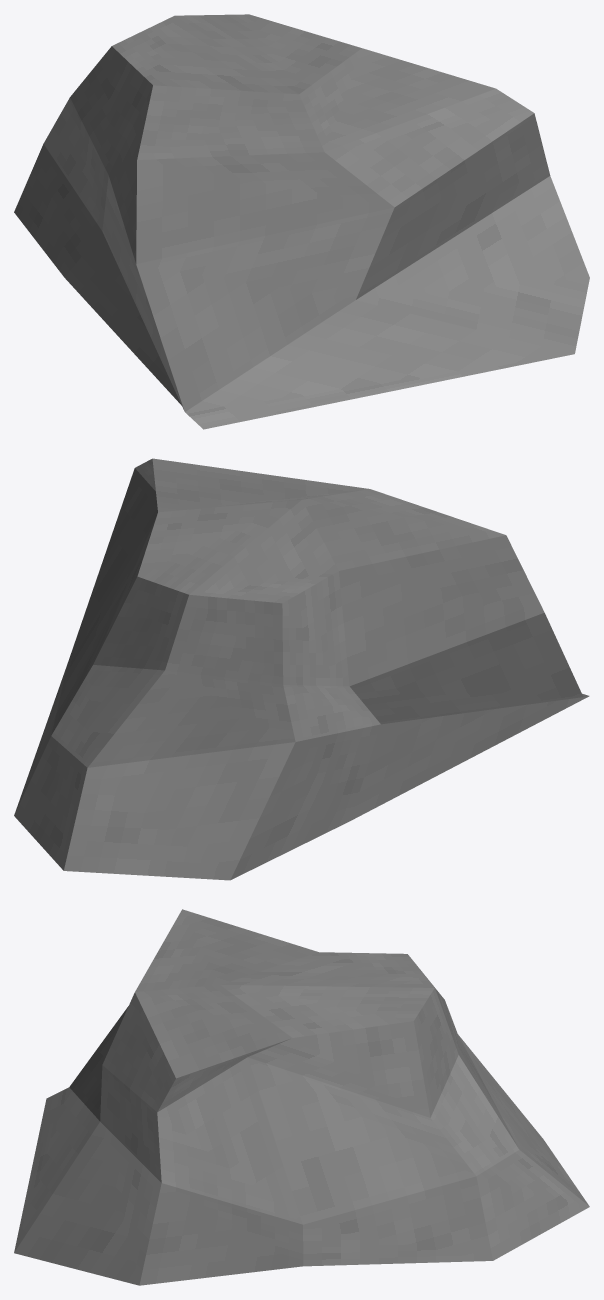
The model's file is Stone3.fbx.
3 views of the same model, one above another, from view 1: azimuth 30°, elevation 25°; view 2: azimuth 150°, elevation 25°; view 3: azimuth 270°, elevation 25° (orthographic). The views are drawn at different scales.
Parts seen in each view (by area): view 1: stone3; view 2: stone3; view 3: stone3.
Boxes of the visible parts, x1,y1,x2,y2 form: stone3: [14, 14, 589, 429]; stone3: [14, 458, 589, 880]; stone3: [14, 909, 589, 1285].
Bounding box in the file's own units: 1.66 × 0.8424 × 2.04.
